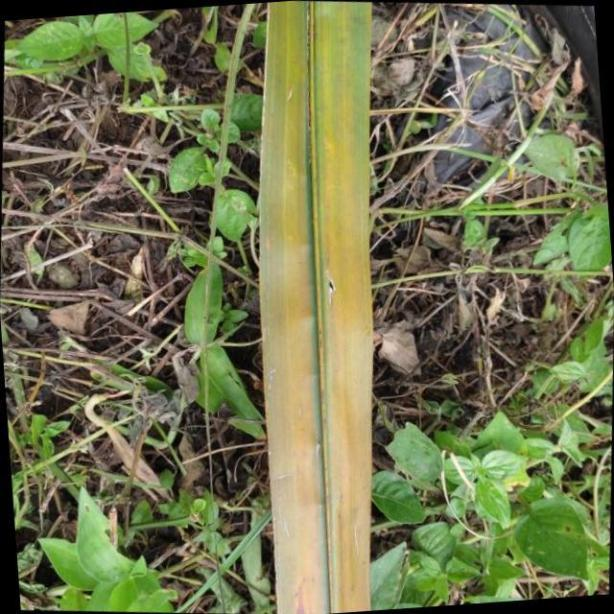Megnesium: (258, 0, 374, 614)
